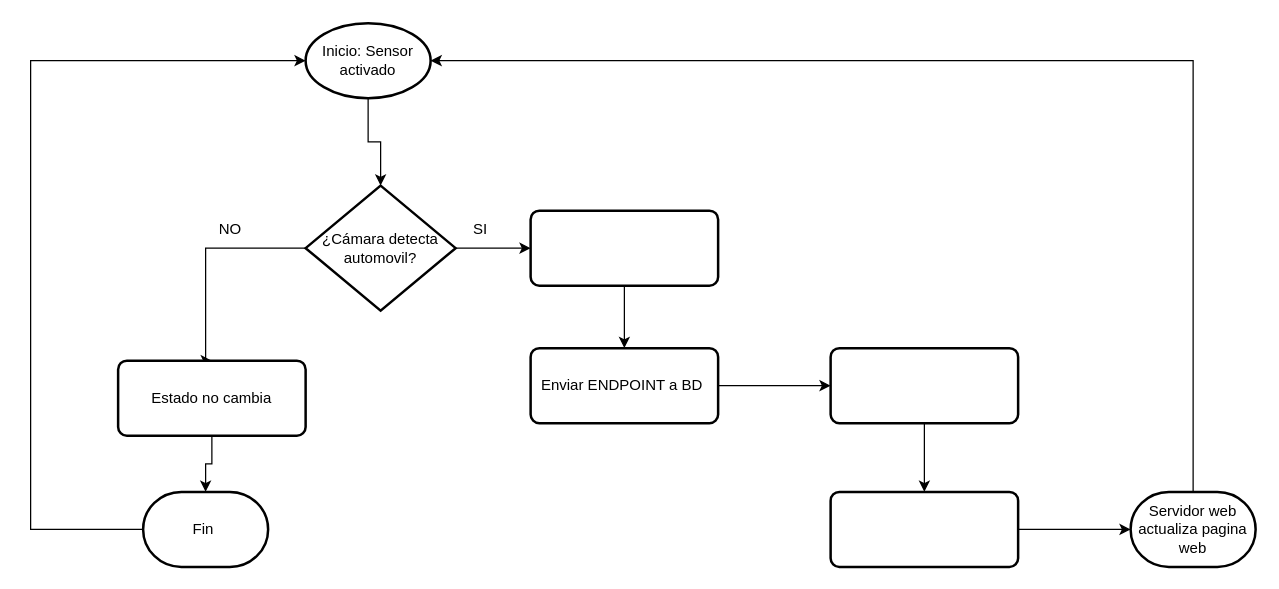
The diagram is 1279 pixels wide and 589 high, and some of its shapes have lost their labels. The centre of each missing label's shape, as x and y in pixels:
"de BD a Java con SerialPort" goes at (x=924, y=385).
"HTTP Request a servidor web" goes at (x=924, y=529).
"Lugar pasa a ocupado" goes at (x=624, y=247).
